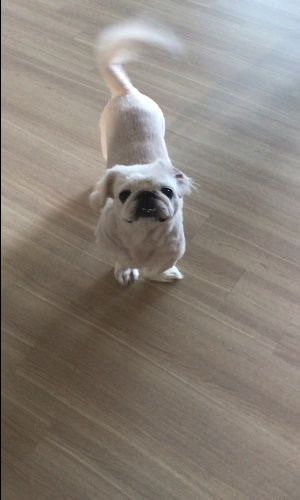ddubi: (85, 11, 200, 290)
